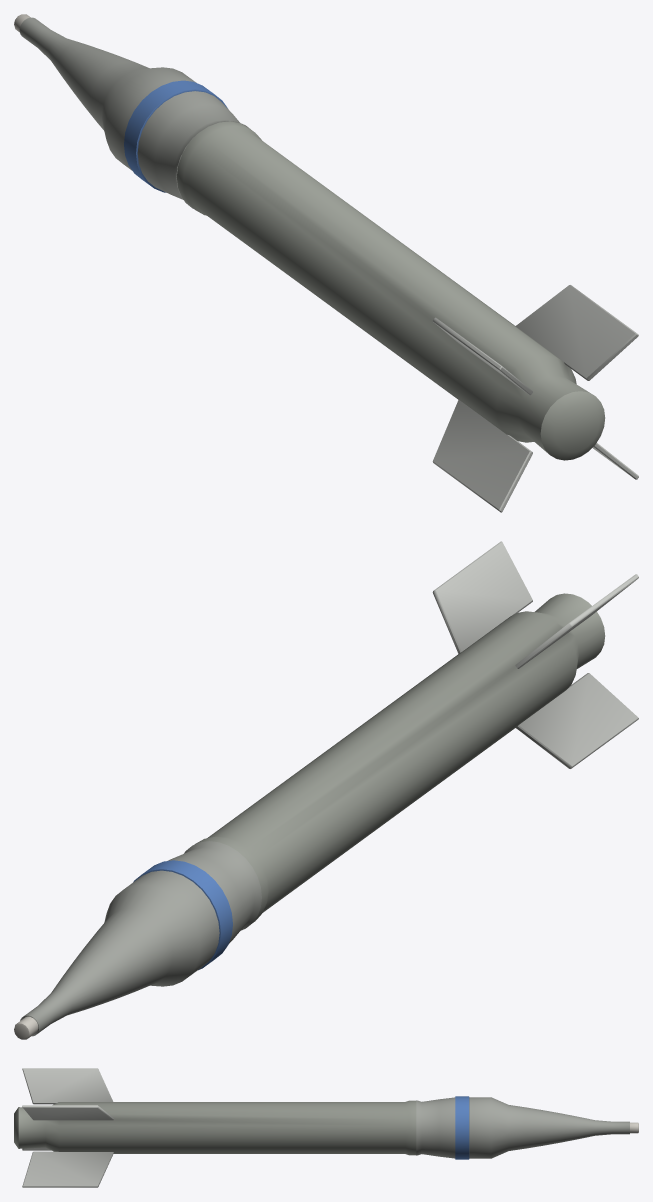
File: rocket-hv.glb
3 views of the same model, one above another, from view 1: azimuth 30°, elevation 25°; view 2: azimuth 150°, elevation 25°; view 3: azimuth 270°, elevation 25° (orthographic). The views are drawn at different scales.
Parts seen in each view (by area): view 1: Body_lod0; view 2: Body_lod0; view 3: Body_lod0.
Part boxes in pixels (bbox=[...]): Body_lod0: bbox=[14, 14, 638, 512]; Body_lod0: bbox=[14, 541, 638, 1039]; Body_lod0: bbox=[14, 1068, 638, 1187].
Size of what is drawn, in the model's own units: 0.1003 by 0.1003 by 0.691.
